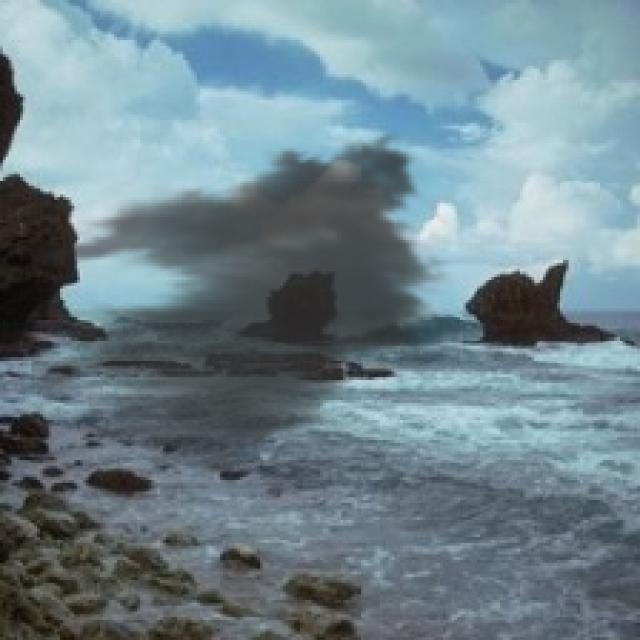smoke: (32, 123, 454, 486)
